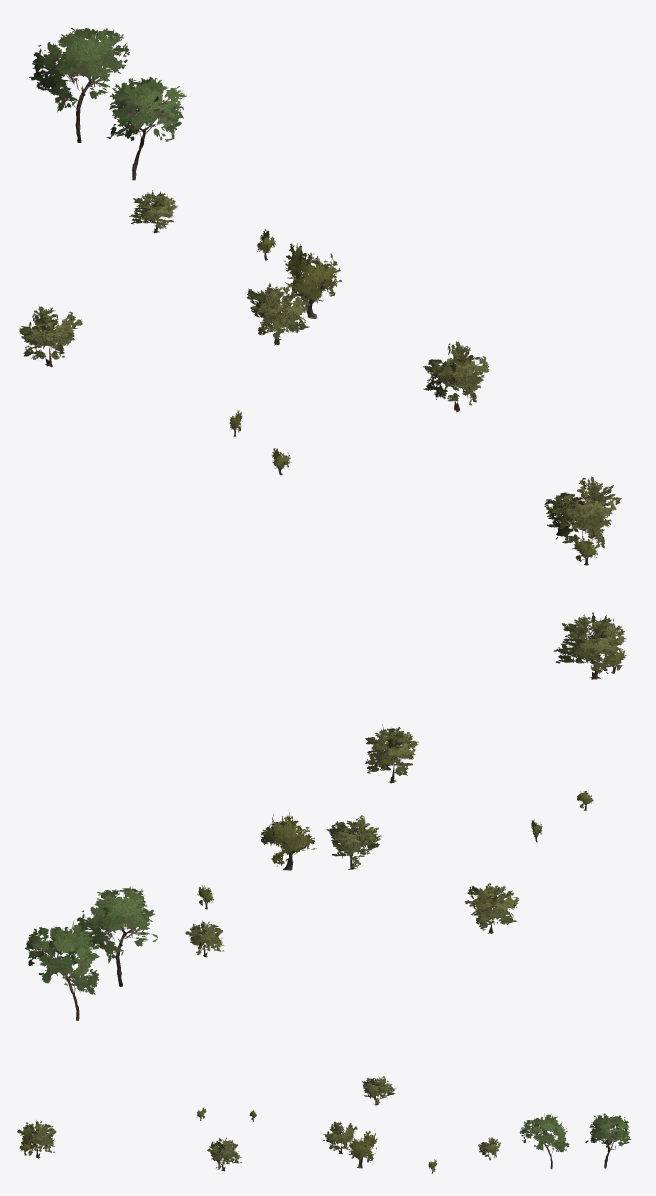
The picture shows the model from 3 angles, top to bottom: view 1: azimuth 30°, elevation 25°; view 2: azimuth 150°, elevation 25°; view 3: azimuth 270°, elevation 25°; orthographic projection. The views are drawn at different scales.
Parts seen in each view (by area): view 1: jacaranda_tree street foliage, tree_small_02 street foliage, island_tree_01 street foliage; view 2: jacaranda_tree street foliage, tree_small_02 street foliage, island_tree_01 street foliage; view 3: jacaranda_tree street foliage, tree_small_02 street foliage, island_tree_01 street foliage, tree_small_02 park bark.
Boxes of the visible parts, <box> form: jacaranda_tree street foliage: <box>19,190,621,549</box>; tree_small_02 street foliage: <box>29,27,186,141</box>; island_tree_01 street foliage: <box>229,229,597,561</box>; jacaranda_tree street foliage: <box>185,612,626,954</box>; tree_small_02 street foliage: <box>25,886,157,994</box>; island_tree_01 street foliage: <box>197,649,626,905</box>; jacaranda_tree street foliage: <box>17,1076,500,1169</box>; tree_small_02 street foliage: <box>519,1113,630,1152</box>; island_tree_01 street foliage: <box>19,1107,437,1171</box>; tree_small_02 park bark: <box>532,1130,613,1169</box>.
Bounding box in the file's own units: 72.47 × 20.66 × 217.
6 materials, 6 textured.
